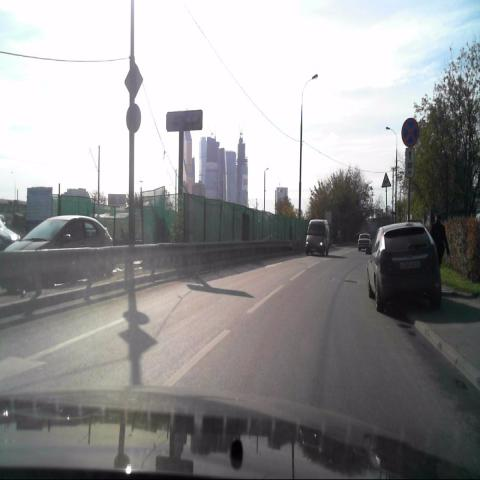8_2_2: (404, 146, 416, 180)
